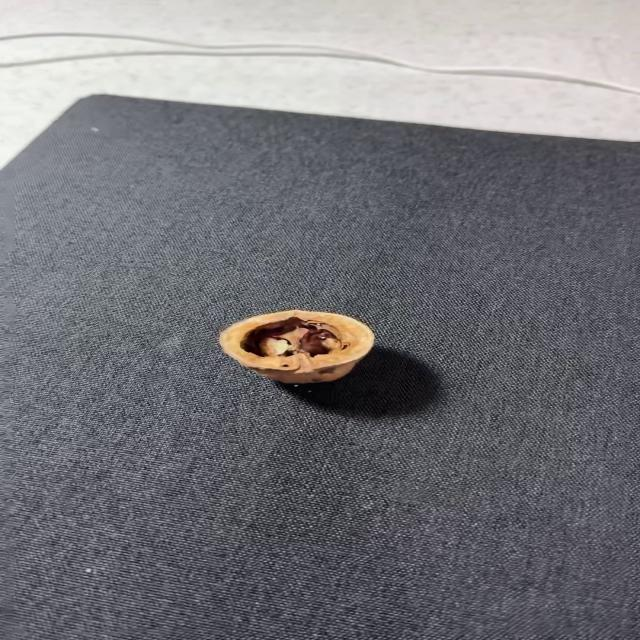nuts-bad0.5: (219, 309, 374, 385)
